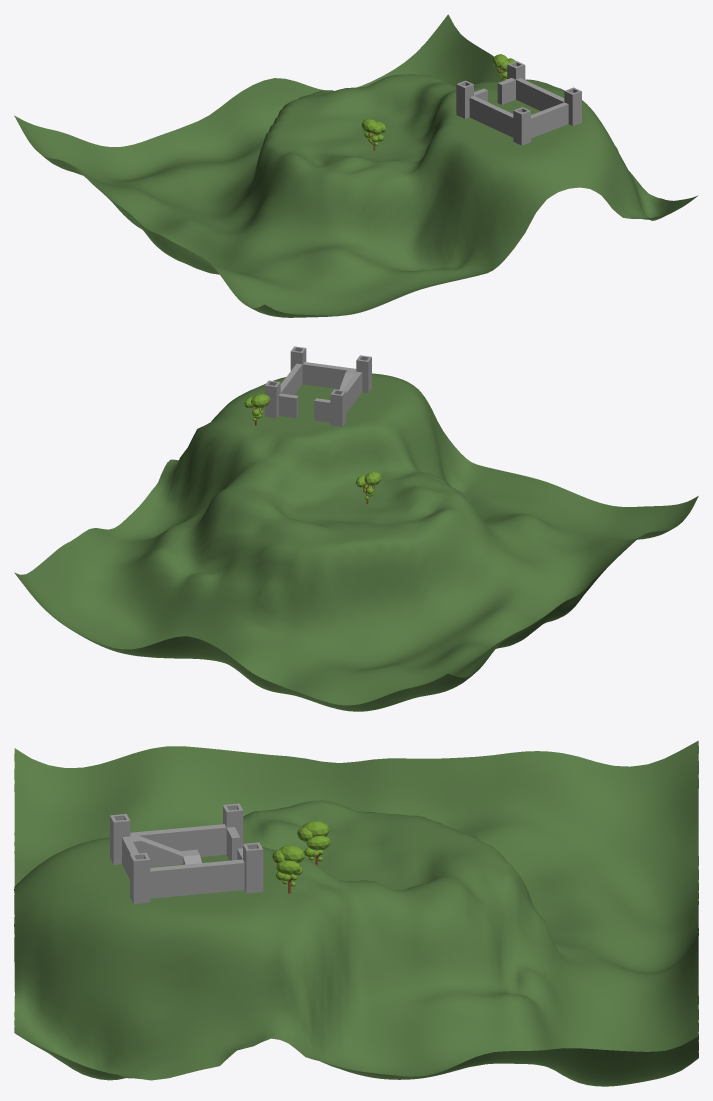
Rendered from testmap.gltf.
3 views of the same model, one above another, from view 1: azimuth 30°, elevation 25°; view 2: azimuth 150°, elevation 25°; view 3: azimuth 270°, elevation 25° (orthographic). The views are drawn at different scales.
Visible parts, largest first — view 1: Plane, Cube, Cube.002; view 2: Plane, Cube, Cube.002; view 3: Plane, Cube, Cube.002, Leaves (×2), Cube.001.
Part boxes in pixels (x1,y1,x2,y2): Plane: [14, 14, 698, 317]; Cube: [469, 78, 568, 138]; Cube.002: [456, 61, 581, 145]; Plane: [14, 373, 698, 711]; Cube: [278, 362, 362, 422]; Cube.002: [264, 346, 371, 426]; Plane: [14, 740, 698, 1086]; Cube: [122, 824, 244, 898]; Cube.002: [110, 803, 263, 904]; Leaves (×2): [272, 821, 330, 886]; Cube.001: [130, 835, 201, 867].
Size of the model in its own units: 160 by 57.5 by 160.
